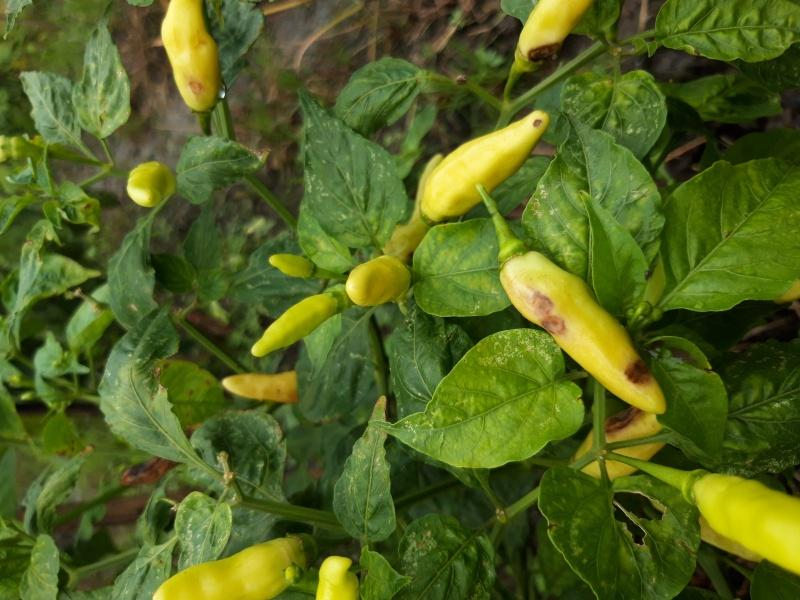antraknosa: (500, 246, 674, 418), (158, 1, 226, 117)
cabai_normal: (414, 109, 549, 223), (691, 470, 800, 582), (155, 539, 301, 600), (247, 285, 342, 359), (344, 255, 413, 310), (221, 370, 299, 405), (126, 159, 176, 209), (268, 253, 313, 279)
